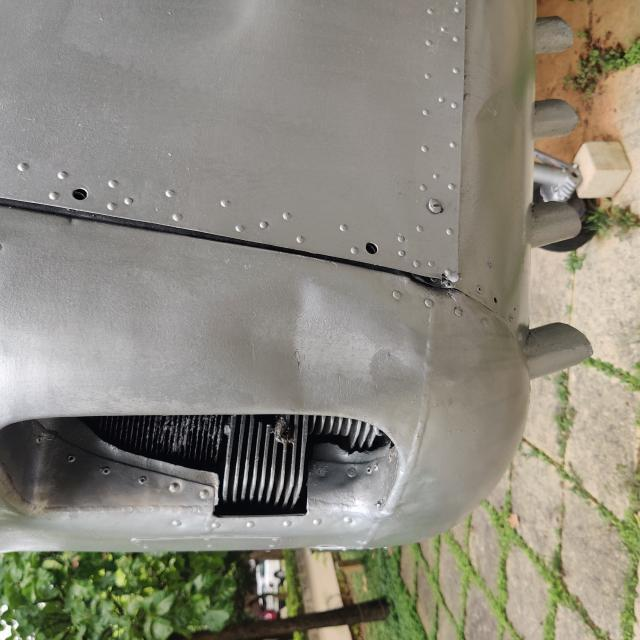dent: (226, 220, 376, 436)
missing-head: (431, 58, 480, 105), (378, 352, 418, 392)
